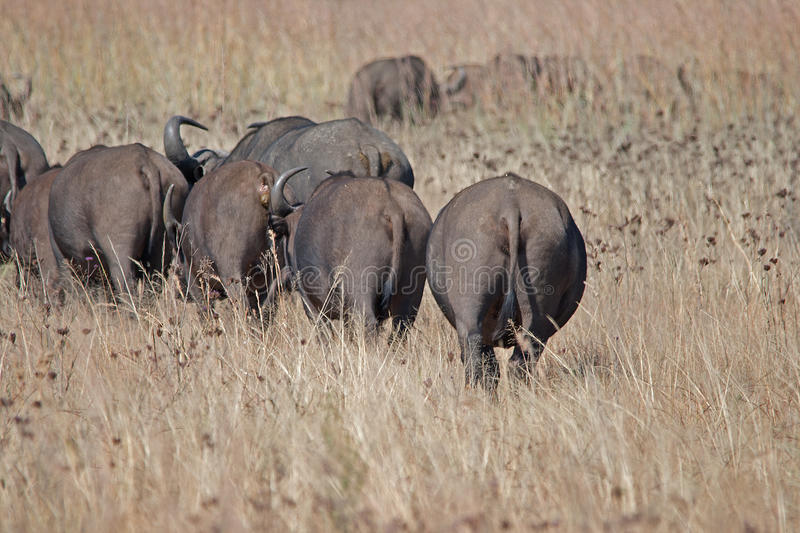buffalo: (418, 164, 594, 401), (164, 106, 405, 240), (268, 161, 423, 353), (155, 154, 284, 333), (50, 143, 164, 303), (1, 158, 64, 310)
